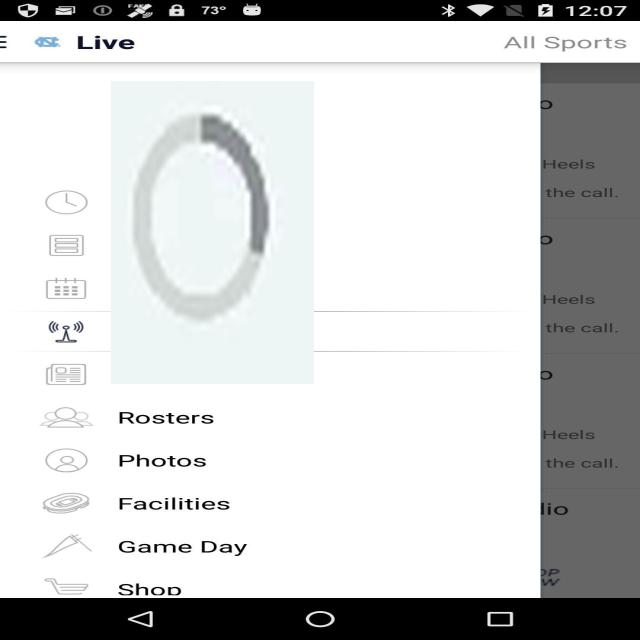misdirection: (111, 81, 314, 384)
